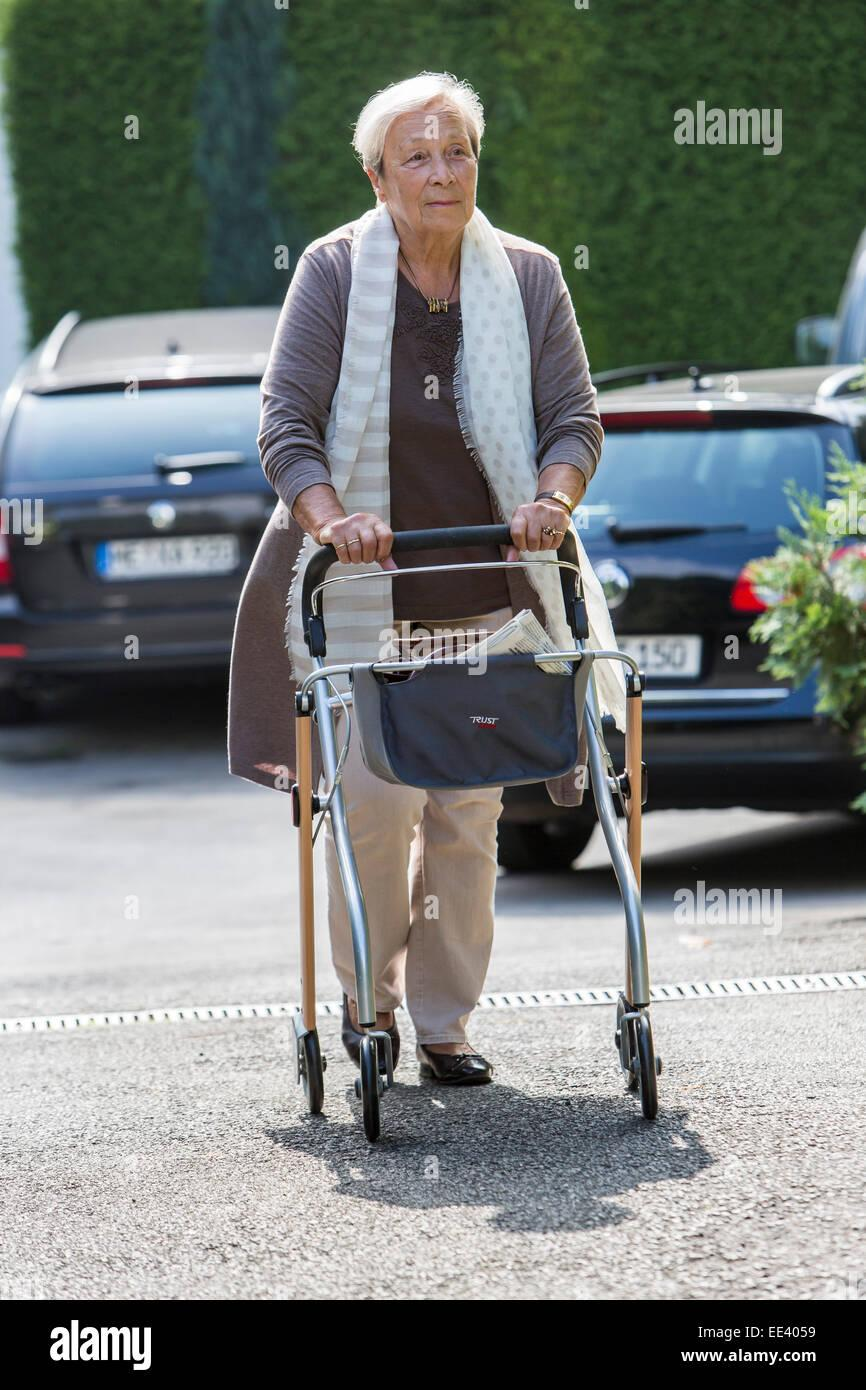walking_frame: (226, 72, 664, 1138)
